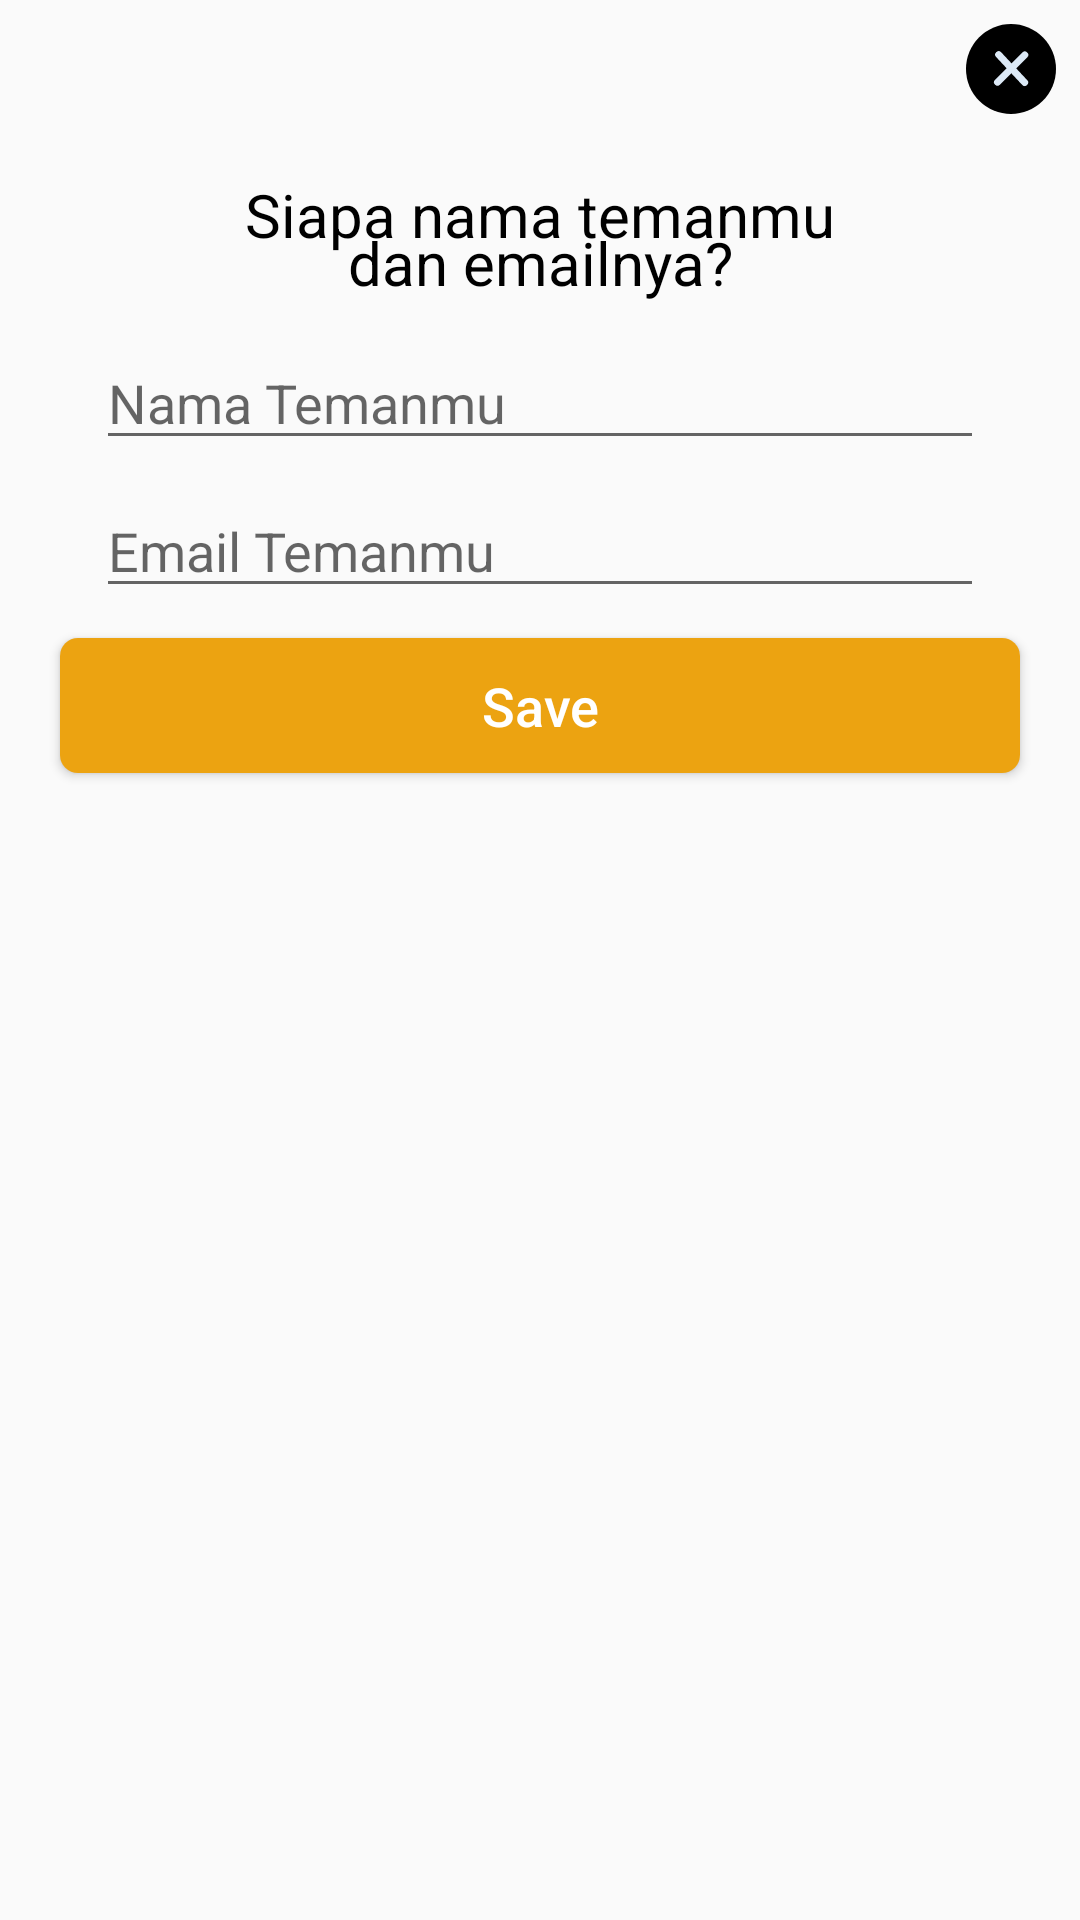

Icons on this 1080*1920 Android screen, each with its box as {"left": x1, "top": y1, "right": x2, "bottom": y2}:
close: {"left": 966, "top": 24, "right": 1056, "bottom": 114}
